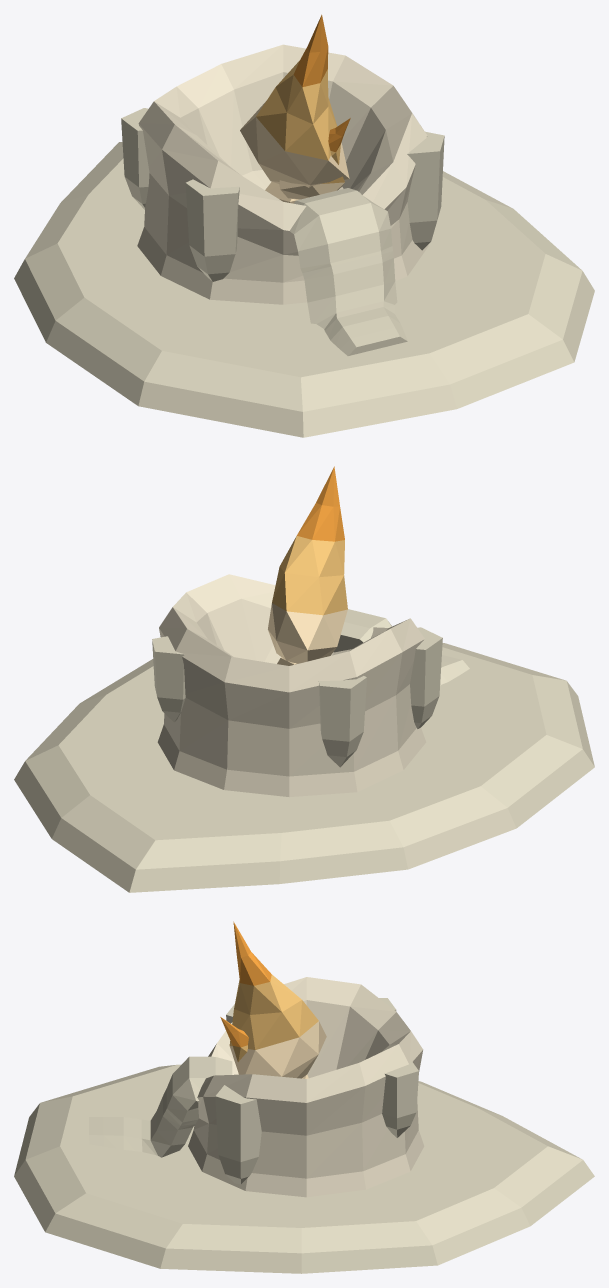
File: SM_LPD_Light_CandleStub_01.fbx
3 renders of one model, top to bottom at view 1: azimuth 30°, elevation 25°; view 2: azimuth 150°, elevation 25°; view 3: azimuth 270°, elevation 25°, orthographic. The views are drawn at different scales.
Parts seen in each view (by area): view 1: SM_LPD_Light_CandleStub_01; view 2: SM_LPD_Light_CandleStub_01; view 3: SM_LPD_Light_CandleStub_01.
Part boxes in pixels (x1,y1,x2,y2): SM_LPD_Light_CandleStub_01: (14, 14, 594, 437); SM_LPD_Light_CandleStub_01: (14, 466, 594, 892); SM_LPD_Light_CandleStub_01: (14, 921, 594, 1273).
Bounding box in the file's own units: 0.1808 × 0.1089 × 0.2264.
